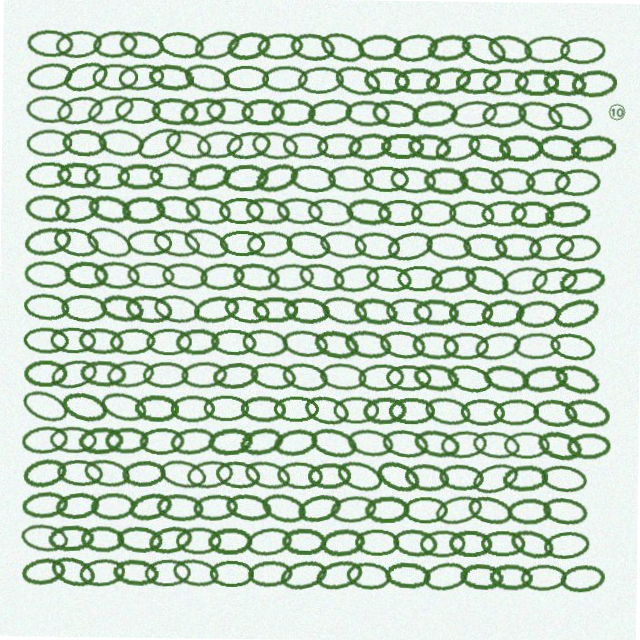chain: (131, 124, 184, 167), (20, 389, 73, 430), (82, 225, 135, 265), (471, 456, 524, 496), (375, 455, 426, 496), (454, 27, 506, 67), (179, 225, 231, 265), (188, 27, 240, 66), (82, 93, 134, 132), (550, 291, 602, 330), (57, 60, 108, 99), (250, 159, 301, 198), (552, 357, 603, 396), (336, 456, 387, 495), (51, 555, 102, 594), (430, 127, 482, 165), (314, 28, 365, 66), (329, 61, 380, 99), (512, 94, 563, 132), (461, 259, 512, 297), (309, 424, 361, 461), (435, 490, 487, 527), (316, 556, 368, 593), (510, 523, 560, 561), (60, 391, 111, 428), (99, 391, 150, 428), (261, 490, 312, 527), (467, 490, 518, 527), (536, 424, 586, 461), (297, 490, 347, 527), (52, 95, 103, 131), (161, 128, 212, 164), (473, 326, 524, 362), (49, 359, 100, 395), (159, 458, 210, 494), (244, 458, 295, 494), (281, 557, 332, 593), (50, 227, 100, 263), (384, 227, 434, 263), (445, 359, 495, 395), (22, 458, 72, 494), (128, 491, 178, 527), (21, 227, 72, 262), (463, 128, 512, 164), (84, 194, 133, 230), (303, 392, 352, 428), (149, 524, 198, 560), (482, 29, 532, 64), (179, 62, 229, 97), (420, 62, 470, 97), (152, 194, 202, 229), (296, 260, 346, 295), (319, 293, 369, 328), (563, 392, 613, 427), (413, 425, 463, 460), (424, 557, 474, 592), (150, 228, 201, 262), (221, 29, 270, 64), (183, 161, 232, 196), (51, 194, 100, 229), (239, 425, 288, 460), (175, 96, 225, 130), (428, 261, 478, 295), (499, 261, 549, 295), (529, 261, 579, 295), (191, 294, 241, 328), (222, 294, 272, 328), (548, 327, 598, 361), (281, 360, 331, 394), (424, 393, 474, 427), (84, 459, 134, 493), (247, 525, 297, 559), (22, 63, 71, 97), (283, 228, 332, 262), (557, 261, 606, 295), (312, 327, 361, 361), (273, 426, 322, 460), (446, 96, 496, 129), (94, 129, 144, 162), (193, 129, 243, 162), (317, 228, 367, 261), (343, 327, 393, 360), (378, 327, 428, 360), (106, 360, 156, 393), (347, 426, 397, 459), (382, 426, 432, 459), (187, 459, 237, 492), (22, 525, 72, 558), (174, 558, 224, 591), (543, 96, 591, 130), (222, 129, 270, 163), (98, 294, 146, 328), (23, 558, 71, 592), (388, 30, 437, 63), (303, 96, 352, 129), (455, 162, 504, 195), (182, 195, 231, 228), (526, 228, 575, 261), (331, 261, 380, 294), (152, 294, 201, 327), (412, 360, 461, 393), (482, 360, 531, 393), (521, 360, 570, 393), (226, 492, 275, 525), (543, 492, 592, 525), (248, 130, 298, 162), (249, 361, 299, 393), (541, 460, 591, 492), (331, 493, 381, 525), (422, 30, 470, 63), (479, 294, 527, 327), (51, 31, 100, 63), (114, 31, 163, 63), (153, 31, 202, 63), (285, 31, 334, 63), (242, 196, 291, 228), (352, 229, 401, 261), (423, 229, 472, 261), (460, 229, 509, 261), (364, 262, 413, 294), (124, 295, 173, 327), (532, 394, 581, 426), (22, 427, 71, 459), (170, 427, 219, 459), (473, 427, 522, 459), (538, 64, 586, 96), (344, 130, 392, 162), (305, 196, 353, 228), (352, 295, 400, 327), (514, 295, 562, 327), (281, 328, 329, 360), (212, 361, 260, 393), (405, 460, 453, 492), (56, 493, 104, 525), (321, 526, 369, 558), (545, 526, 593, 558), (81, 559, 129, 591), (562, 559, 610, 591), (114, 64, 163, 95), (368, 97, 417, 128), (274, 196, 323, 227), (231, 262, 280, 293), (266, 262, 315, 293), (22, 295, 71, 326), (241, 328, 290, 359), (319, 361, 368, 392), (88, 31, 136, 62), (144, 64, 192, 95), (451, 64, 499, 95), (408, 97, 456, 128), (478, 97, 526, 128), (567, 130, 615, 161), (287, 163, 335, 194), (343, 196, 391, 227), (542, 196, 590, 227), (92, 262, 140, 293), (441, 427, 489, 458), (23, 493, 71, 524), (394, 526, 442, 557), (387, 164, 436, 194), (411, 329, 460, 359), (534, 130, 581, 161), (198, 262, 245, 293), (208, 427, 255, 458), (216, 460, 263, 491), (294, 65, 342, 95), (479, 65, 527, 95), (567, 65, 615, 95), (148, 98, 196, 128), (446, 197, 494, 227), (160, 263, 208, 293), (60, 296, 108, 326), (109, 329, 157, 359), (58, 461, 106, 491), (503, 461, 551, 491), (158, 494, 206, 524), (194, 494, 242, 524), (118, 527, 166, 557), (348, 560, 396, 590), (253, 32, 300, 62), (404, 131, 451, 161), (552, 164, 599, 194), (283, 296, 330, 326), (78, 329, 125, 359), (440, 461, 487, 491), (115, 560, 162, 590), (23, 32, 71, 61), (258, 65, 306, 94), (203, 98, 251, 127), (147, 164, 195, 193), (493, 230, 541, 259), (126, 263, 174, 292), (385, 296, 433, 325), (513, 329, 561, 358), (358, 362, 406, 391), (278, 461, 326, 490), (79, 428, 125, 458), (123, 461, 169, 491), (462, 560, 508, 590), (520, 32, 567, 61), (360, 65, 407, 94), (23, 98, 70, 127), (59, 131, 106, 160), (23, 164, 70, 193), (220, 164, 267, 193), (325, 164, 372, 193), (23, 197, 70, 226), (479, 197, 526, 226), (554, 230, 601, 259), (23, 263, 70, 292), (210, 329, 257, 358), (80, 362, 127, 391), (181, 362, 228, 391), (92, 494, 139, 523), (50, 527, 97, 556), (147, 560, 194, 589), (250, 560, 297, 589), (387, 560, 434, 589), (523, 561, 571, 589), (54, 164, 100, 193), (488, 164, 534, 193), (523, 164, 569, 193), (63, 263, 109, 292), (175, 329, 221, 358), (363, 395, 409, 424), (366, 494, 412, 523), (556, 33, 603, 61), (280, 132, 327, 160), (314, 132, 361, 160), (245, 231, 292, 259), (412, 297, 459, 325), (23, 330, 70, 358), (143, 363, 190, 391), (494, 396, 541, 424), (51, 429, 98, 457), (140, 429, 187, 457), (178, 528, 225, 556), (422, 528, 469, 556), (391, 66, 437, 94), (342, 99, 388, 127), (24, 132, 70, 160), (115, 165, 161, 193), (421, 165, 467, 193), (125, 231, 171, 259), (443, 330, 489, 358), (386, 363, 432, 391), (171, 396, 217, 424), (241, 396, 287, 424), (461, 396, 507, 424), (509, 495, 555, 523), (361, 165, 408, 192), (218, 231, 265, 258), (50, 330, 97, 357), (204, 396, 251, 423), (274, 396, 321, 423), (389, 396, 436, 423), (354, 33, 399, 61), (120, 198, 165, 226), (135, 396, 180, 424), (106, 429, 151, 457), (568, 429, 613, 457), (309, 462, 354, 490), (83, 528, 128, 556), (210, 528, 255, 556), (492, 561, 537, 589), (89, 66, 135, 93), (220, 66, 266, 93), (112, 99, 158, 126), (268, 99, 314, 126), (82, 165, 128, 192), (376, 198, 422, 225), (409, 198, 455, 225), (396, 264, 442, 291), (252, 297, 298, 324), (146, 330, 192, 357), (334, 396, 380, 423), (505, 429, 551, 456), (357, 528, 403, 555), (483, 528, 529, 555), (212, 561, 258, 588), (511, 66, 556, 93), (238, 99, 283, 126), (378, 132, 423, 159), (496, 132, 541, 159), (217, 198, 262, 225), (509, 198, 554, 225), (448, 297, 493, 324), (24, 363, 69, 390), (405, 495, 450, 522), (284, 528, 329, 555), (451, 528, 496, 555)
noise: (604, 98, 624, 118)
